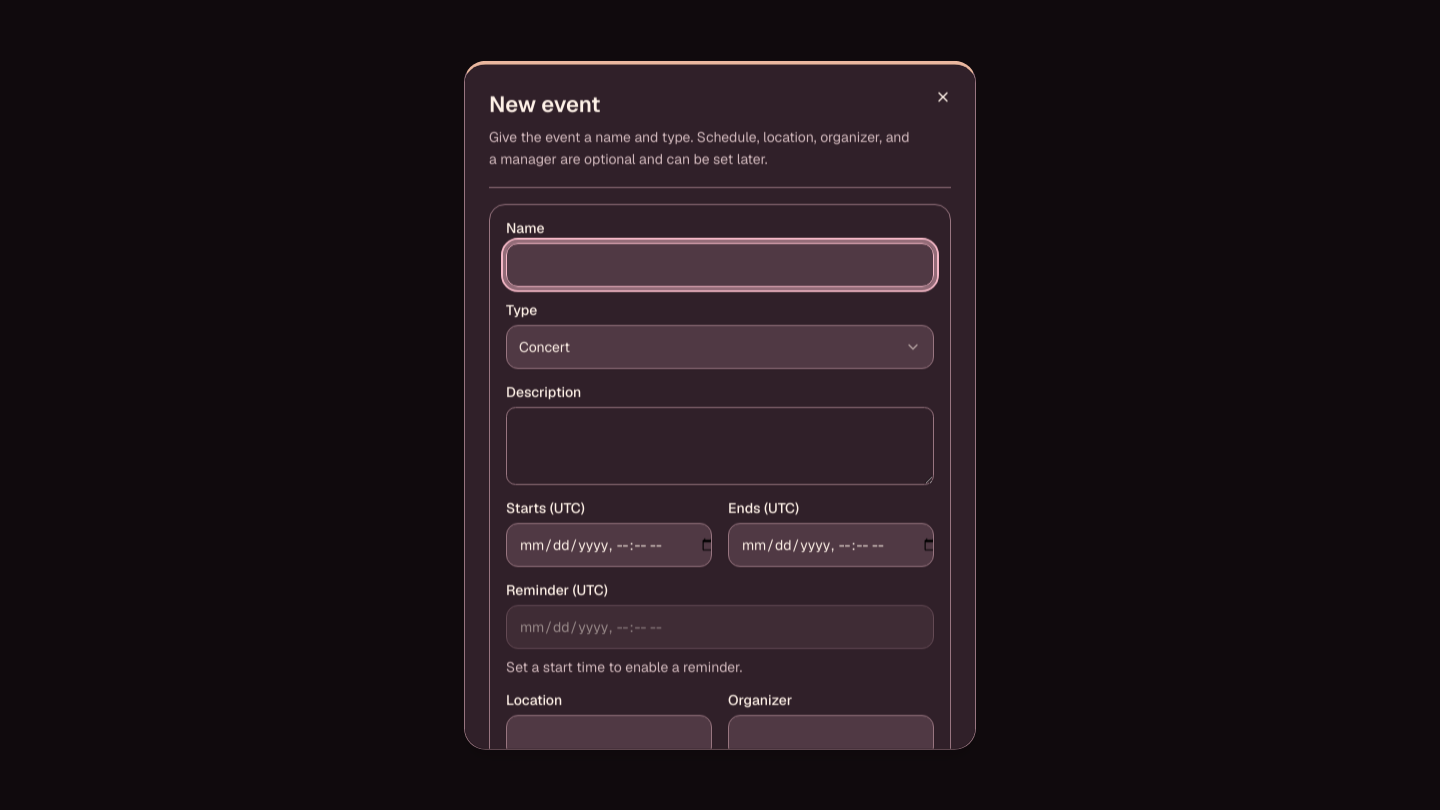
CreateEventDialog › keeps the dialog open and shows a message when the create fails
Type "Try Again" into the field labelled "Name" at x=720, y=264, box [506,242,934,286]
(page scrolled)
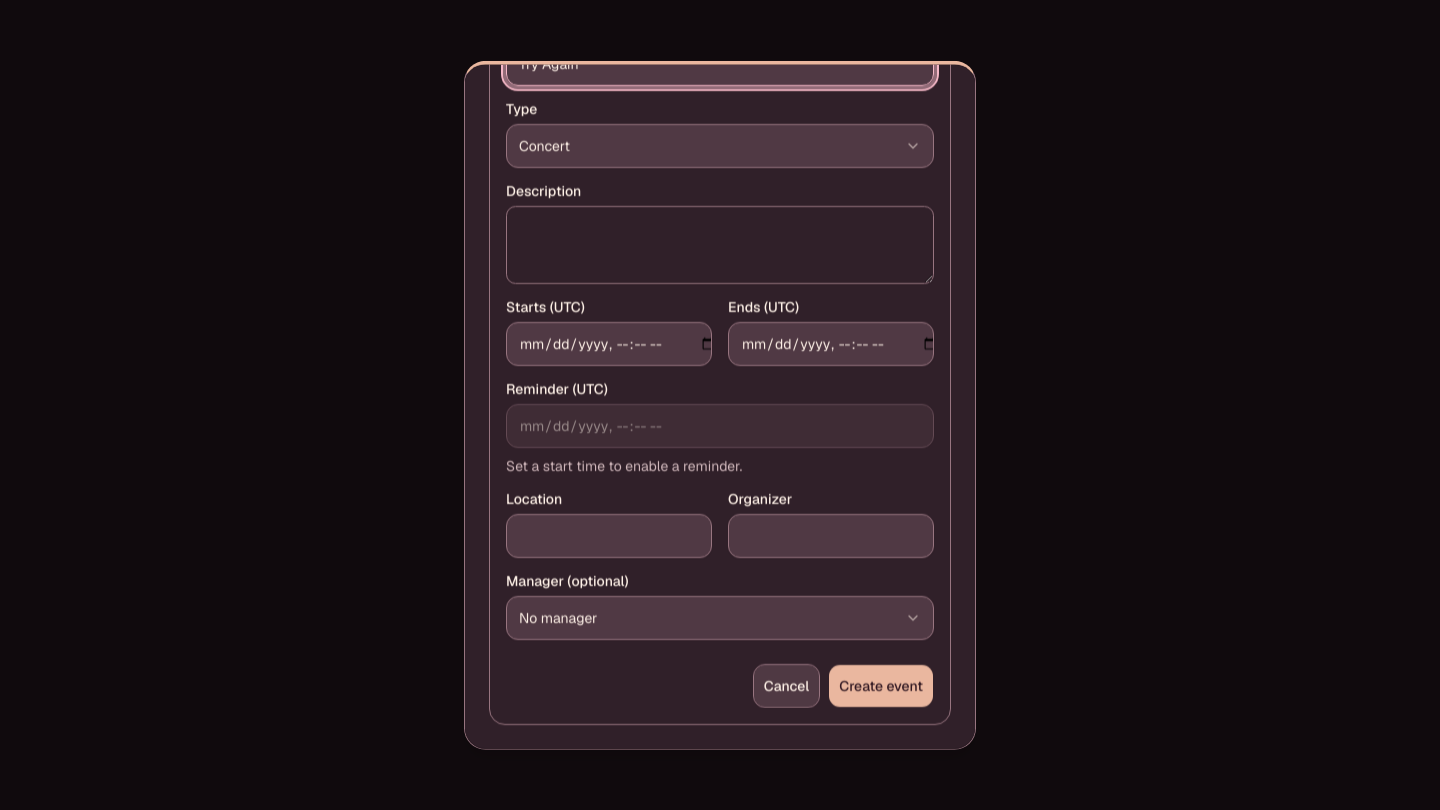
Click the button "Create event" at x=881, y=685, box [828,663,934,707]
(page scrolled)
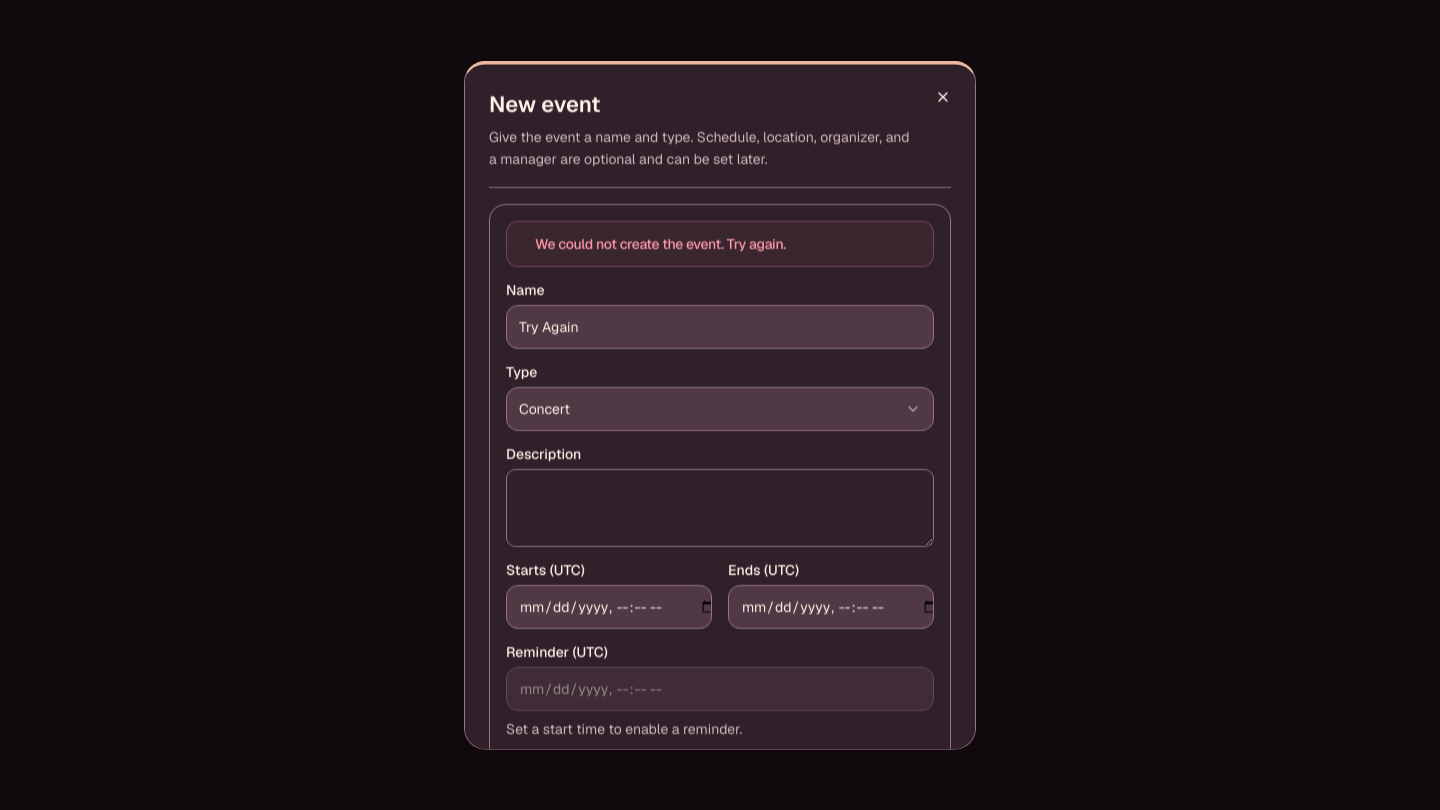
Now the text "We could not create the event. Try again." is shown, box [535,234,786,252]
